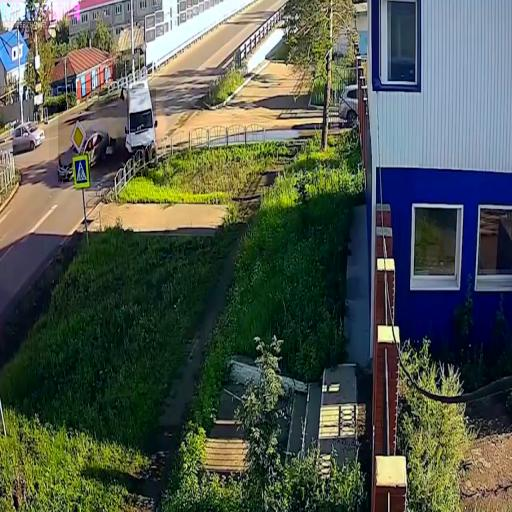小汽车: (9, 118, 49, 161)
小汽车撞小汽车: (58, 88, 156, 182)
